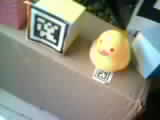duck: (84, 19, 125, 78)
